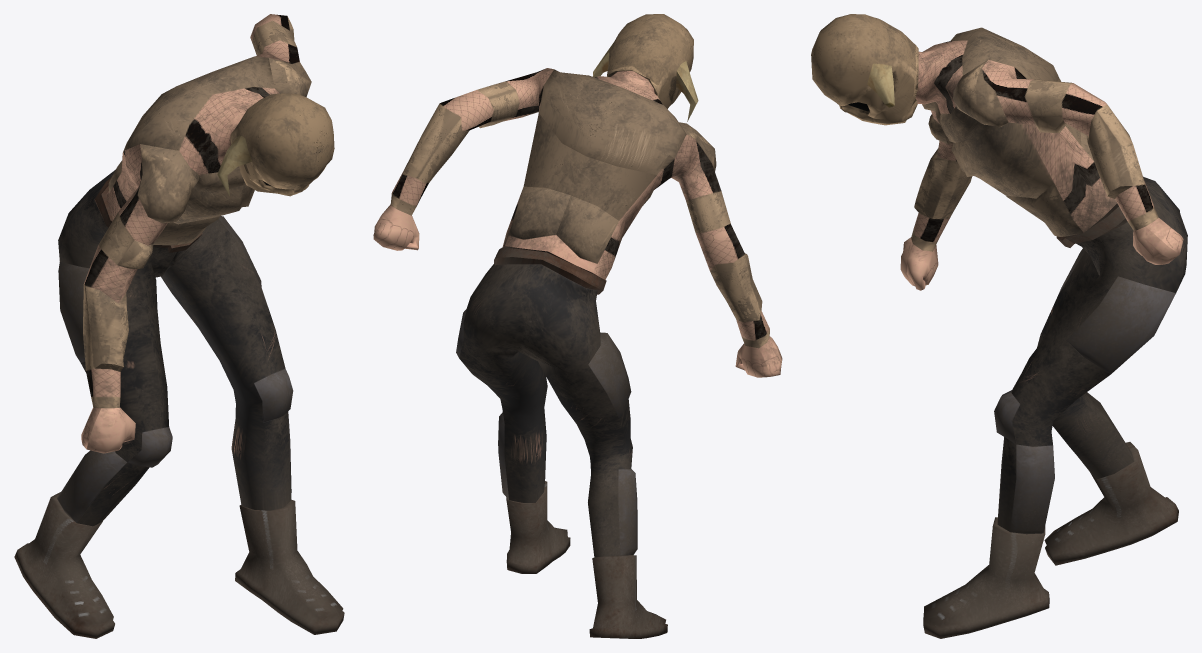
Rendered from Anim_cogerobjeto_npc1.0024.obj.
3 views of the same model, side by side, from view 1: azimuth 30°, elevation 25°; view 2: azimuth 150°, elevation 25°; view 3: azimuth 270°, elevation 25° (orthographic). The views are drawn at different scales.
Visible parts, largest first — view 1: NPC2; view 2: NPC2; view 3: NPC2.
Boxes of the visible parts, <box> form: NPC2: <box>14,14,344,638</box>; NPC2: <box>373,14,782,638</box>; NPC2: <box>811,14,1187,638</box>.
Bounding box in the file's own units: 4.45 × 7.58 × 4.41.
